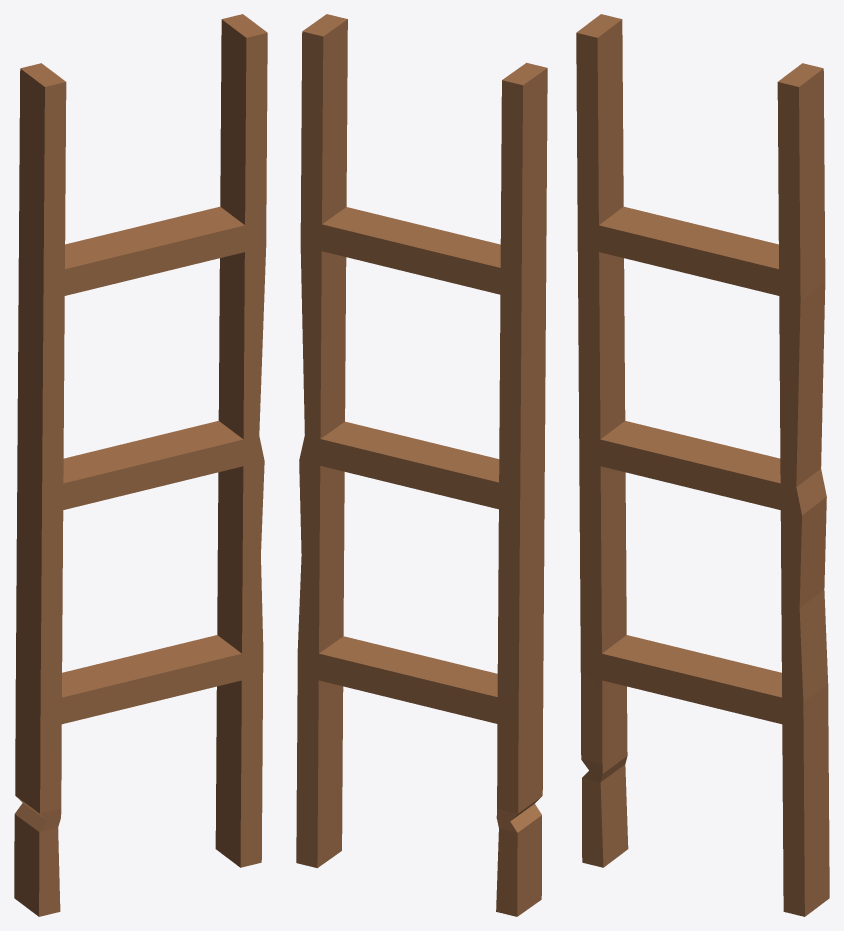
The model's file is Ladder_short.glb.
The picture shows the model from 3 angles, left to right: view 1: azimuth 30°, elevation 25°; view 2: azimuth 150°, elevation 25°; view 3: azimuth 330°, elevation 25°; orthographic projection.
Visible parts, largest first — view 1: Ladder_short; view 2: Ladder_short; view 3: Ladder_short.
Boxes of the visible parts, x1,y1,x2,y2 form: Ladder_short: (14,14,267,916); Ladder_short: (296,14,547,916); Ladder_short: (576,14,829,916).
Bounding box in the file's own units: 0.6331 × 2.27 × 0.1512.
